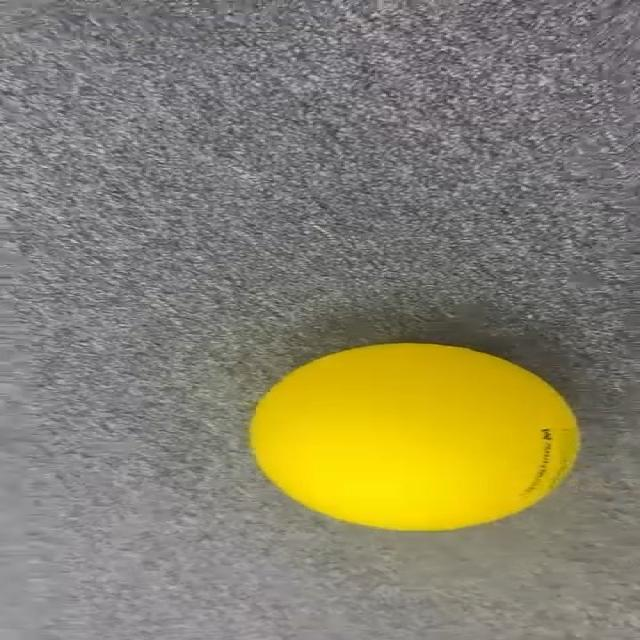Fuels: (251, 343, 578, 529)
